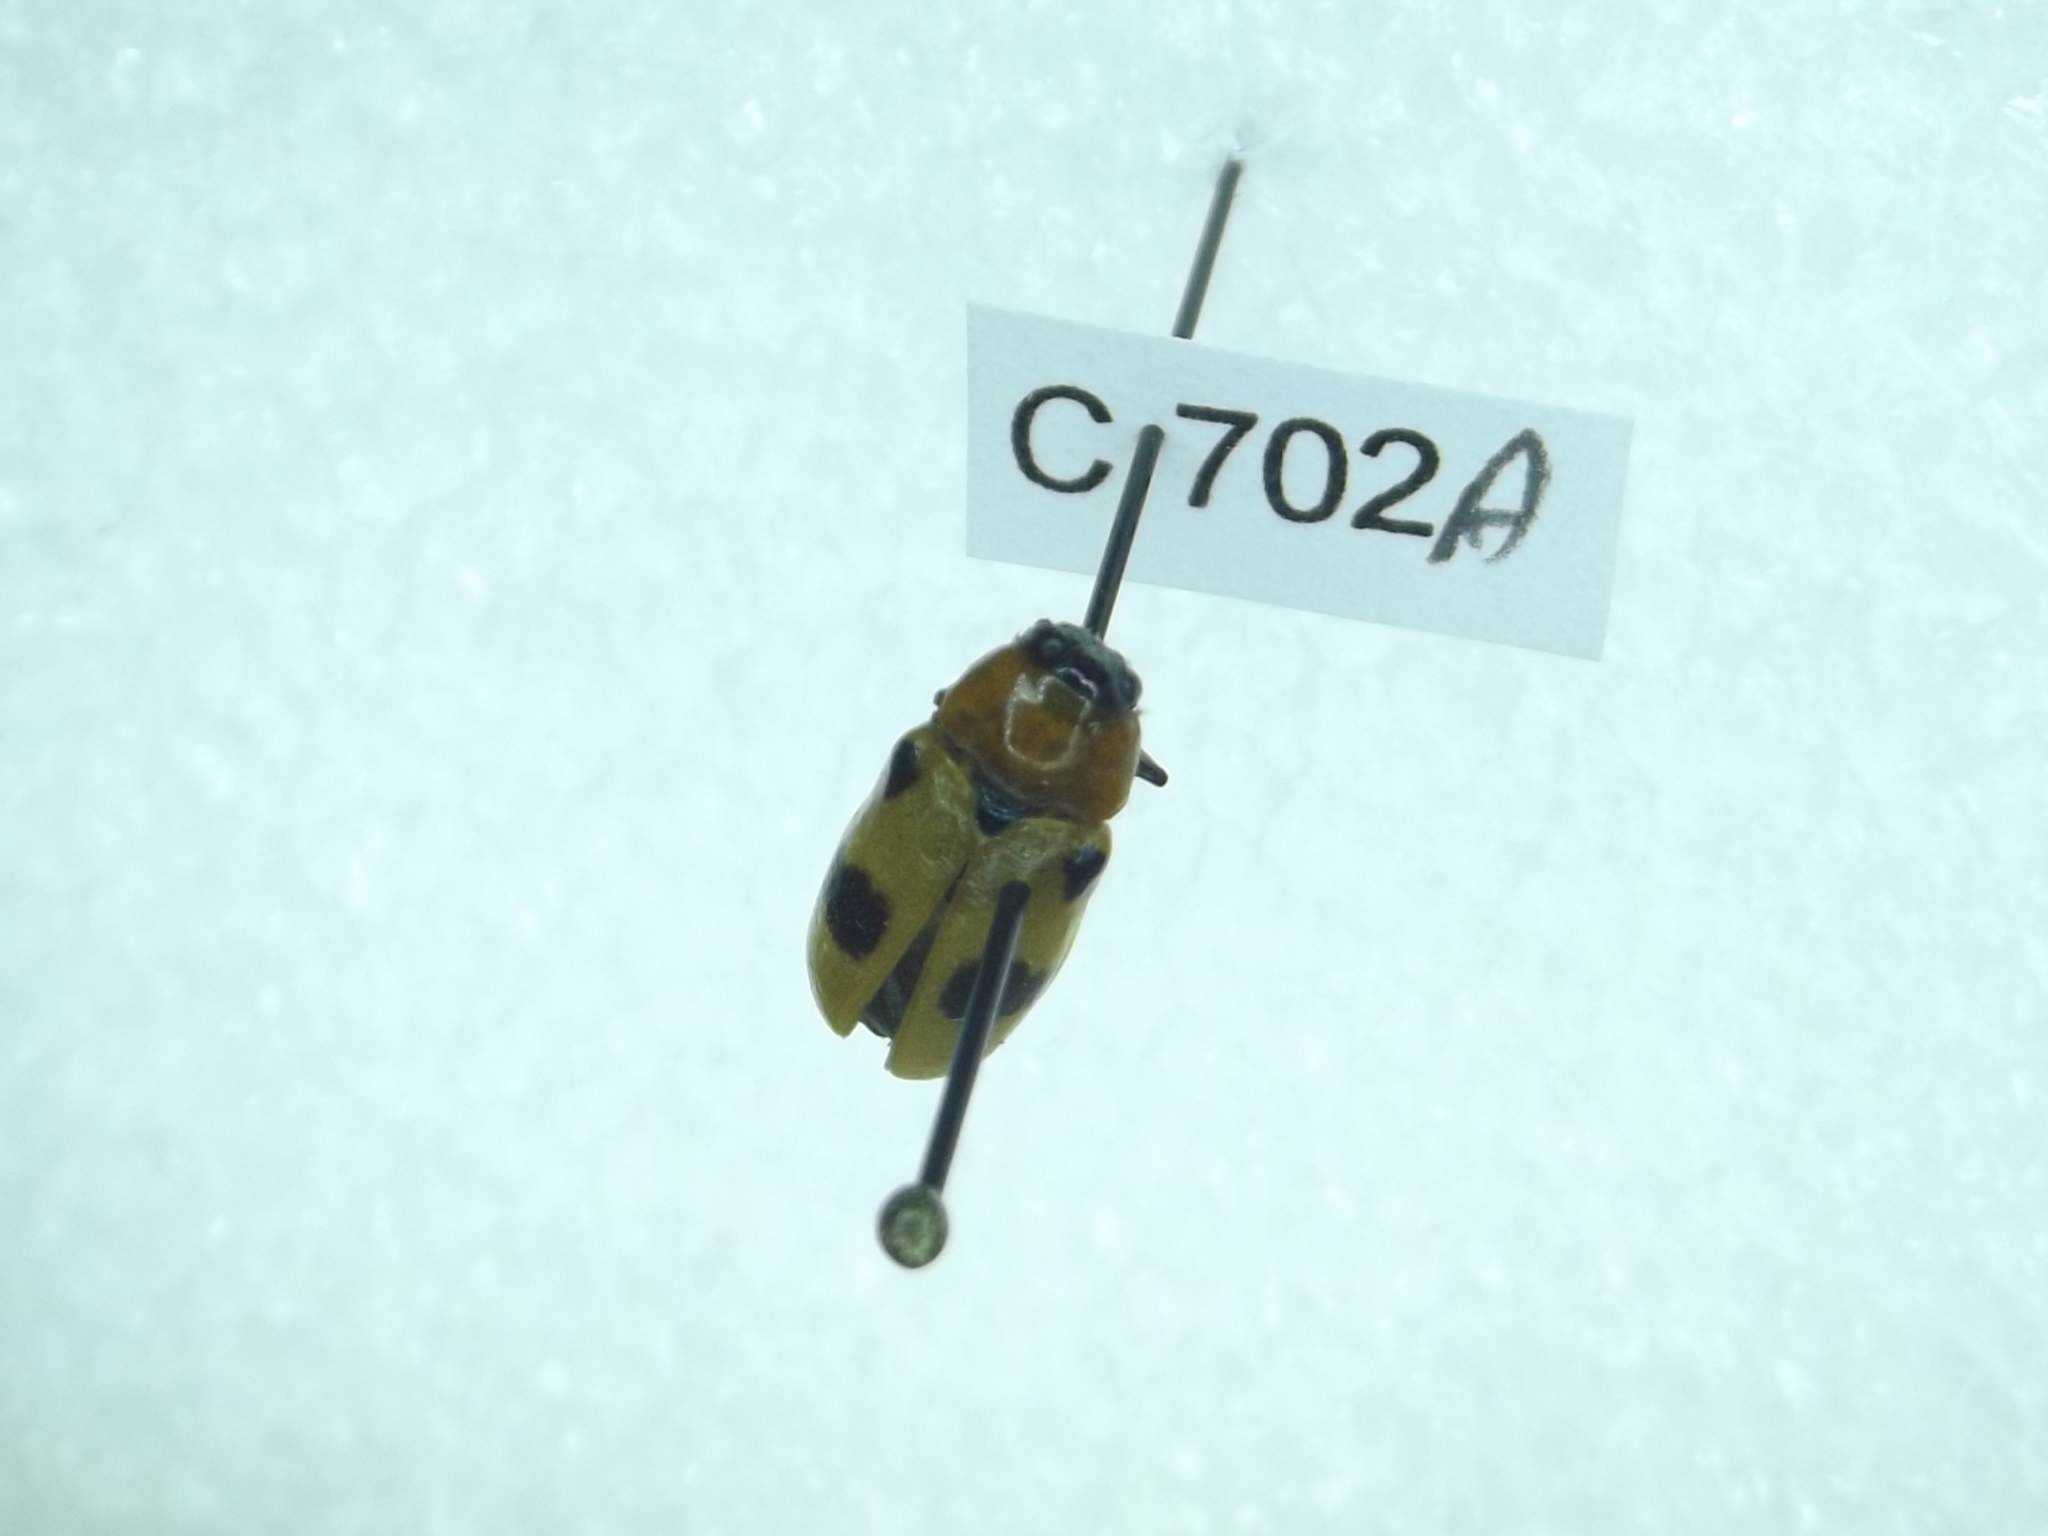Tituboea_macropus: (771, 605, 1171, 1108)
